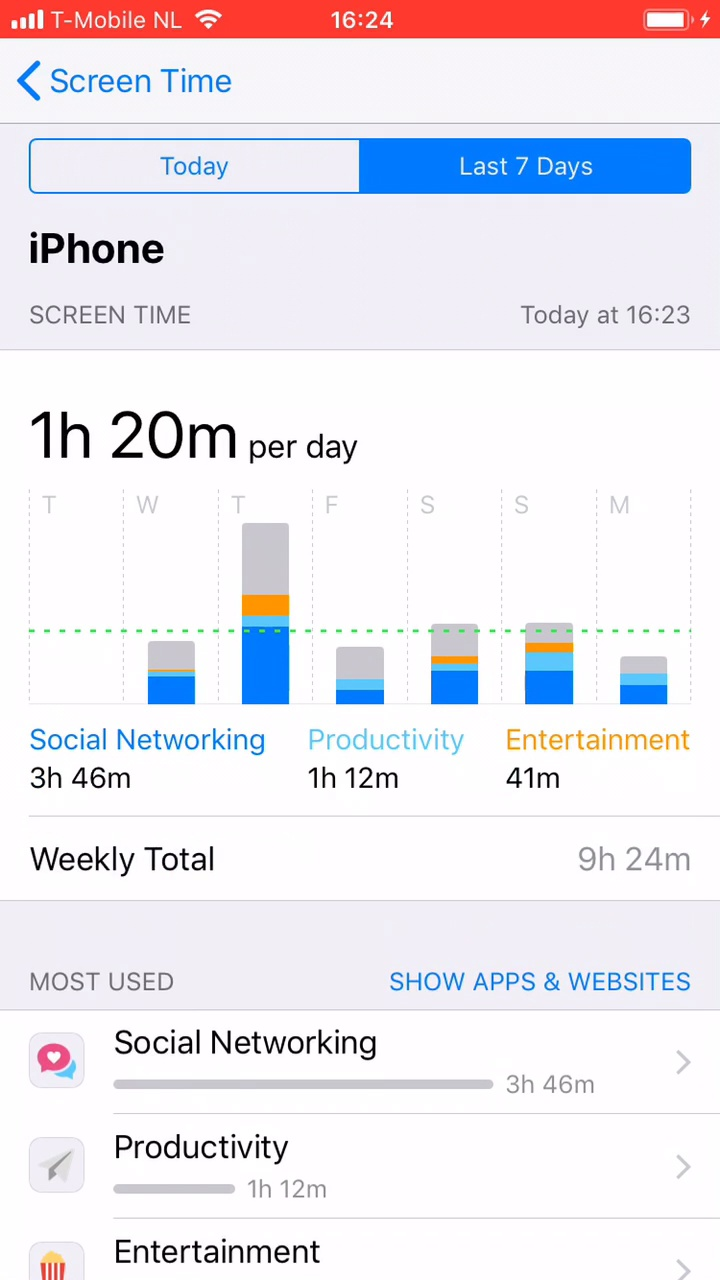use_over: (15, 717, 709, 891)
